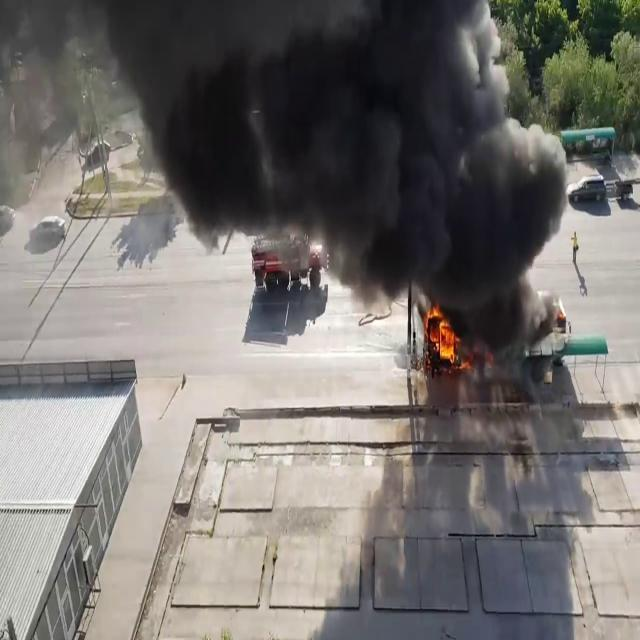Fire: (425, 298, 459, 366)
Smoke: (108, 1, 568, 306)
